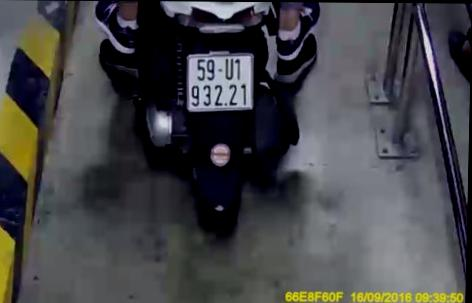License_Plate: (175, 50, 261, 116)
